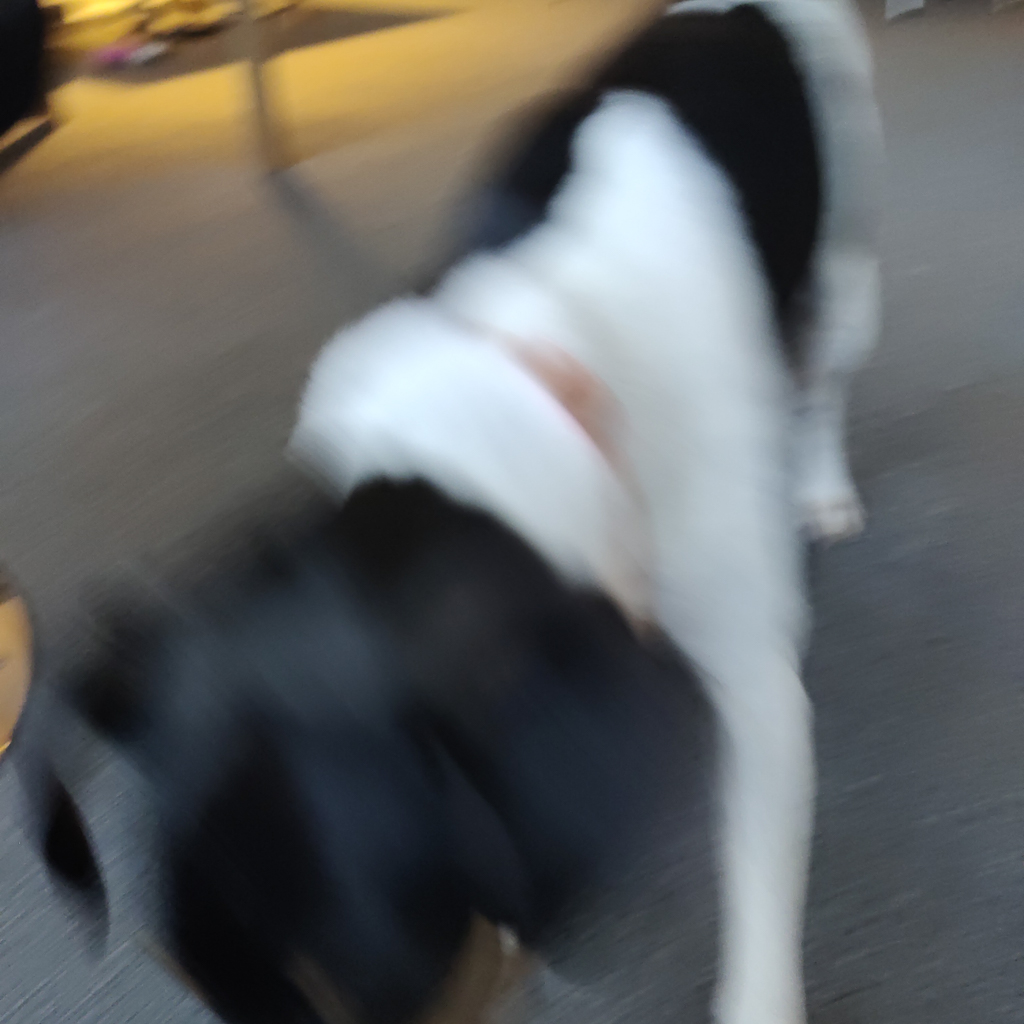Dog: (0, 0, 915, 1024)
